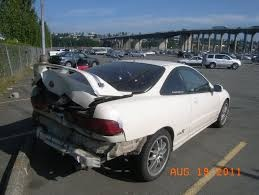Smashed: (27, 74, 134, 165)
